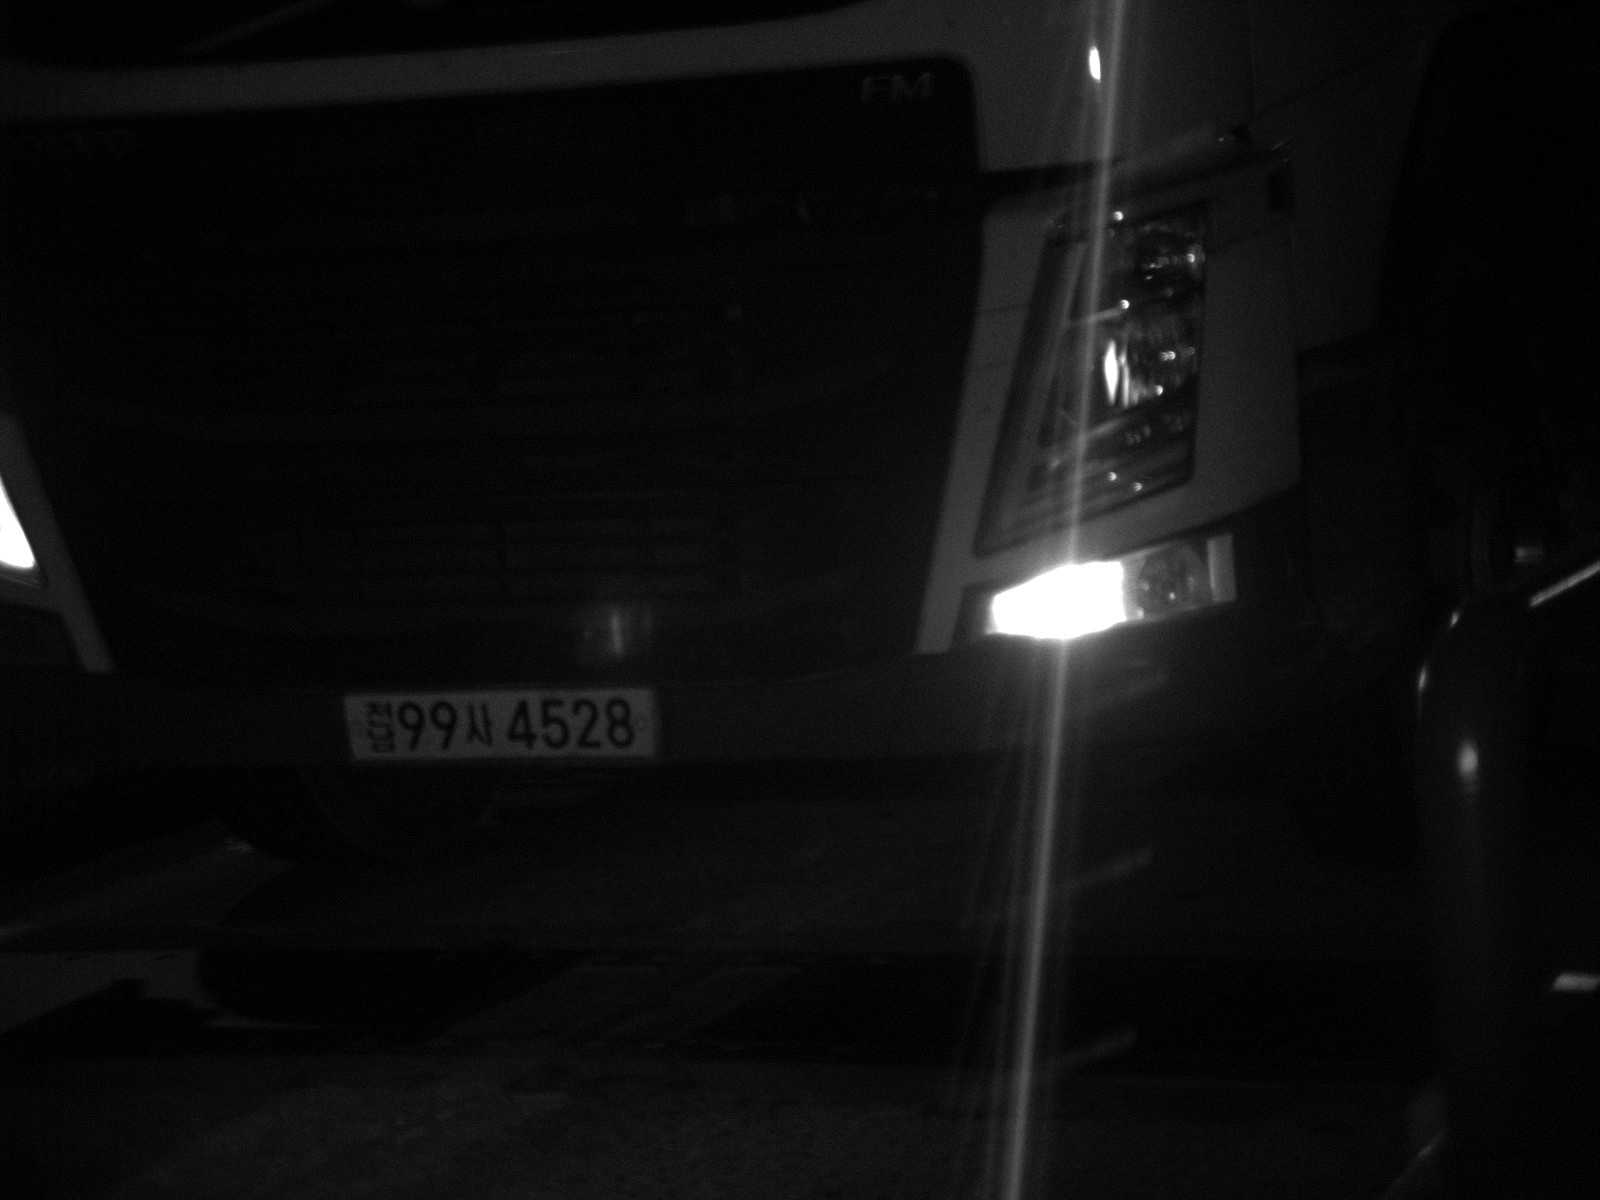car: (1, 1, 1599, 894)
plate: (330, 681, 669, 767)
